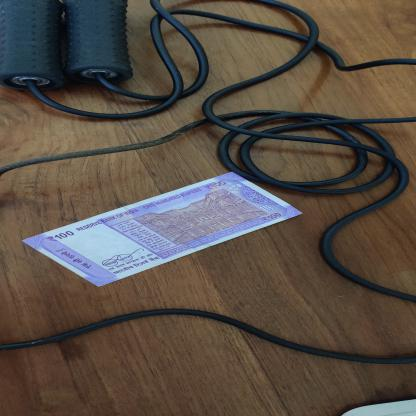New100Back: (21, 170, 305, 288)
